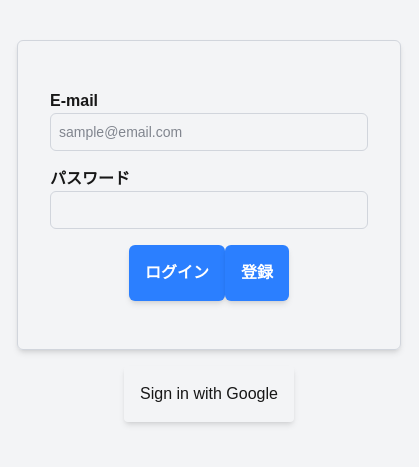
Test: Login Component › shows validation errors when fields are empty
This screenshot has width=419, height=467.
Note: ログインボタンをクリック
Click the button "ログイン" at point(177, 273), box [129,245,225,301]
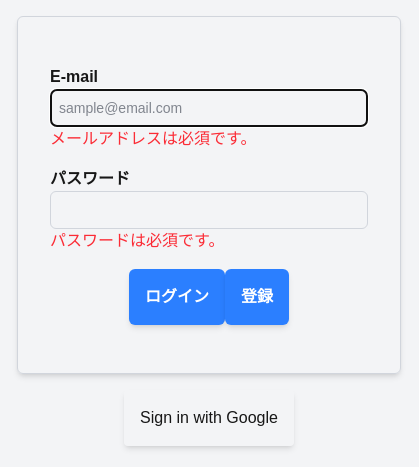
Check: the text with test id "email-error" reads "メールアドレスは必須です。", box [50,130,256,147]
Check: the text with test id "password-error" reads "パスワードは必須です。", box [50,232,224,249]
